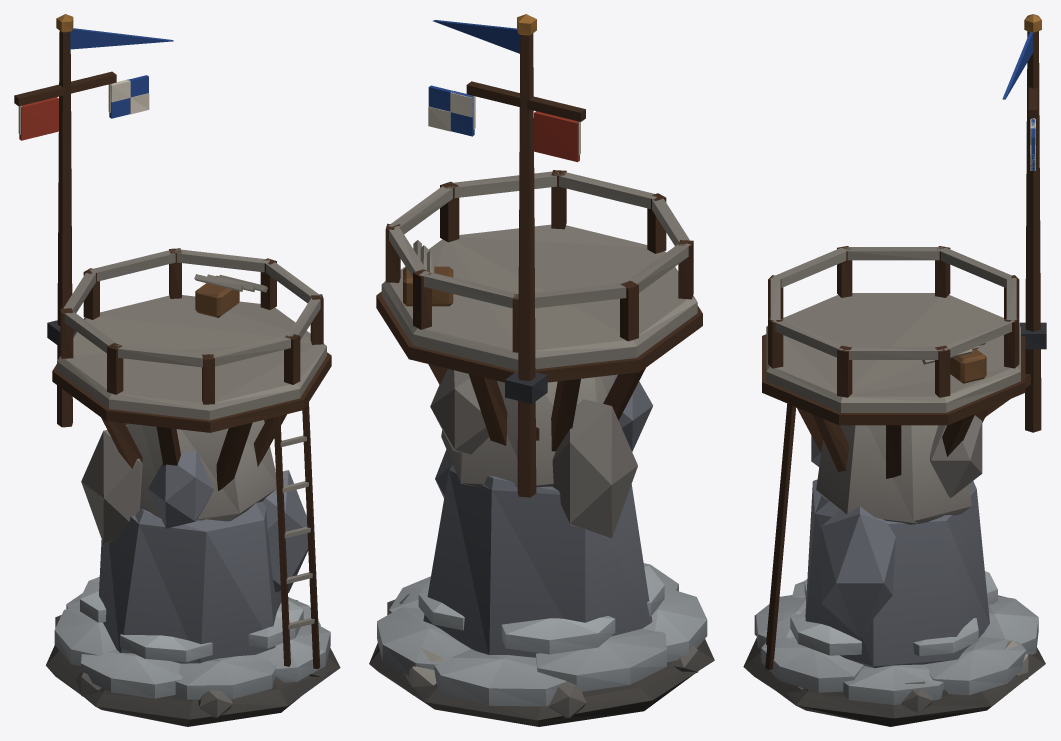
The model's file is perch_ballista.glb.
The picture shows the model from 3 angles, left to right: view 1: azimuth 30°, elevation 25°; view 2: azimuth 150°, elevation 25°; view 3: azimuth 270°, elevation 25°; orthographic projection. The views are drawn at different scales.
Parts seen in each view (by area): view 1: perch_ballista; view 2: perch_ballista; view 3: perch_ballista.
Part boxes in pixels (x1,y1,x2,y2): perch_ballista: [14, 14, 340, 726]; perch_ballista: [369, 14, 714, 726]; perch_ballista: [743, 14, 1046, 726].
Bounding box in the file's own units: 0.8711 × 2.05 × 0.902.
